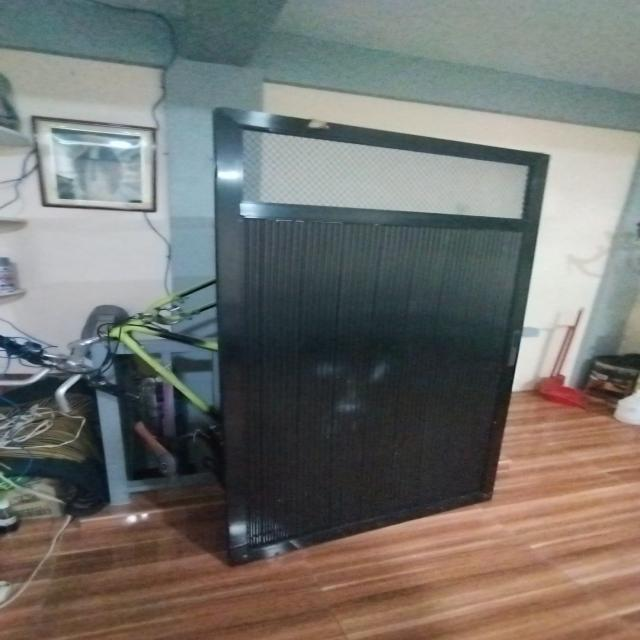door: (200, 100, 555, 561)
